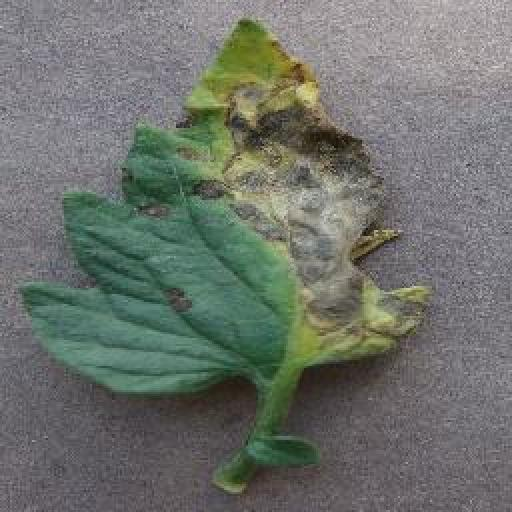Early Blight: (17, 18, 428, 398)
